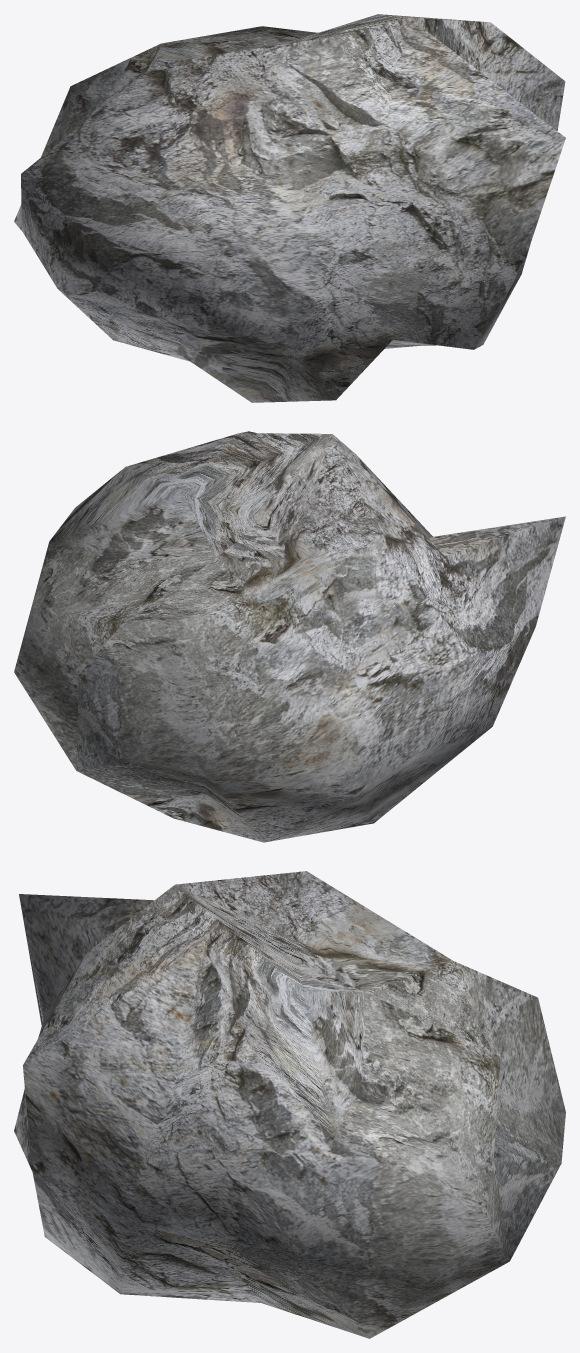
The model's file is LowPolyRock.dae.
The picture shows the model from 3 angles, top to bottom: view 1: azimuth 30°, elevation 25°; view 2: azimuth 150°, elevation 25°; view 3: azimuth 270°, elevation 25°; orthographic projection. The views are drawn at different scales.
Parts seen in each view (by area): view 1: Icosphere; view 2: Icosphere; view 3: Icosphere.
Part boxes in pixels (x1,y1,x2,y2): Icosphere: (14, 14, 565, 402); Icosphere: (14, 431, 565, 842); Icosphere: (14, 871, 565, 1338).
Bounding box in the file's own units: 2.38 × 2.15 × 1.66.
